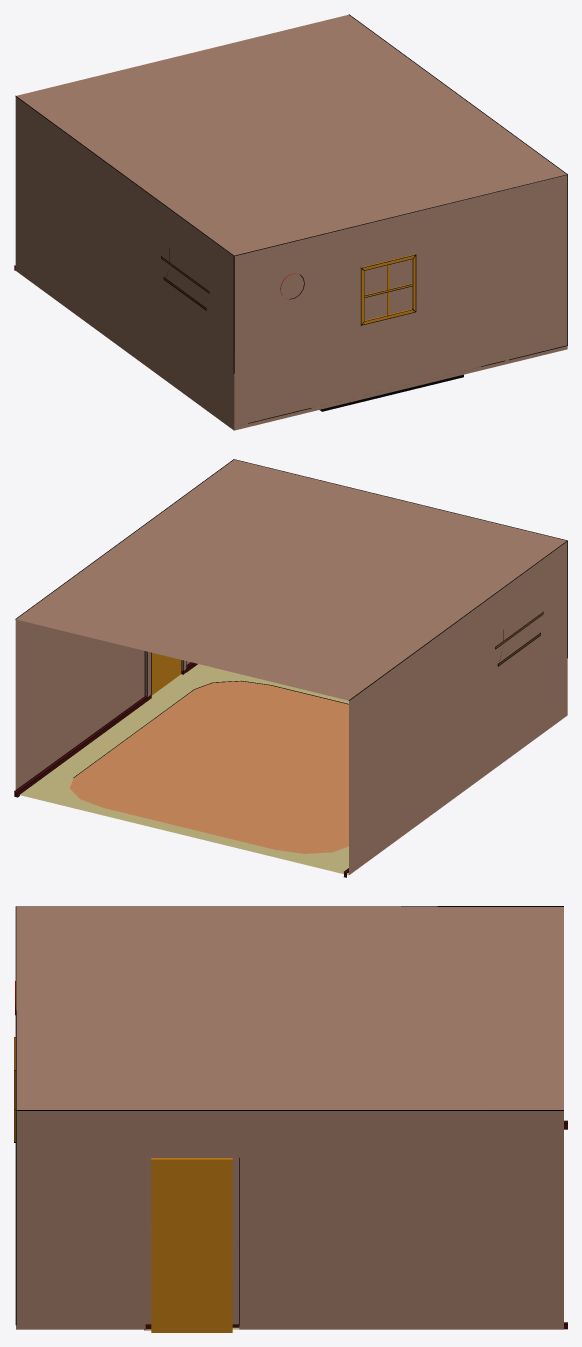
File: LivingRoom.fbx
3 views of the same model, one above another, from view 1: azimuth 30°, elevation 25°; view 2: azimuth 150°, elevation 25°; view 3: azimuth 270°, elevation 25° (orthographic). The views are drawn at different scales.
Parts seen in each view (by area): view 1: Cube.024; view 2: Cube.024; view 3: Cube.024.
Part boxes in pixels (x1,y1,x2,y2): Cube.024: (14,14,567,430); Cube.024: (14,459,567,877); Cube.024: (14,906,567,1332).
Bounding box in the file's own units: 5111 × 2604 × 5835.
